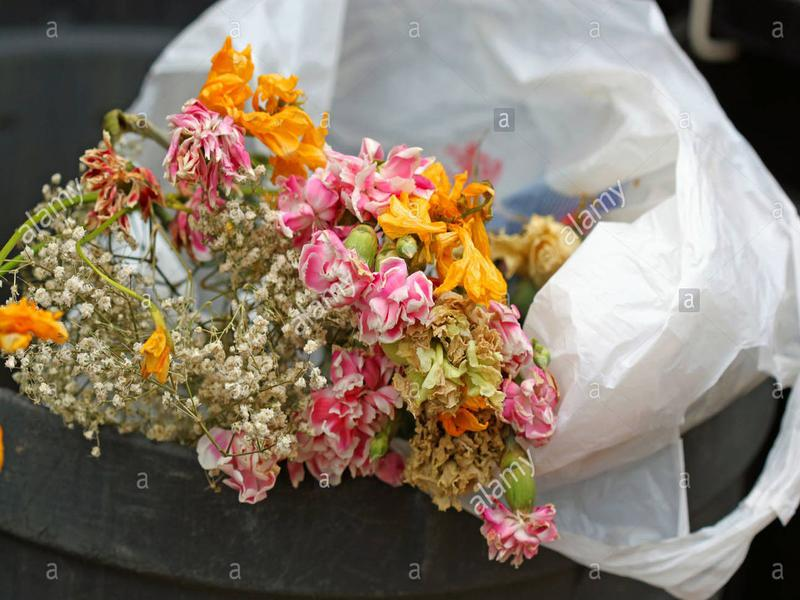flowers: (2, 36, 567, 572)
plastic: (518, 1, 800, 600)
